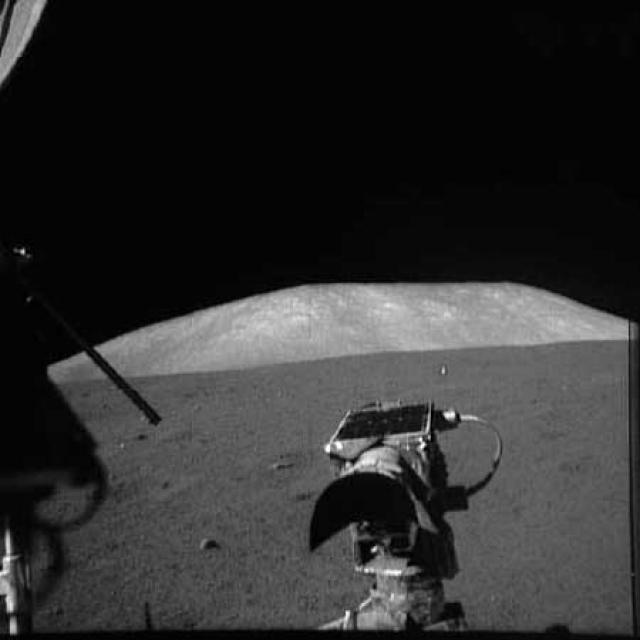artifact: (0, 218, 185, 636), (281, 393, 532, 640)
rock: (194, 528, 224, 560)
